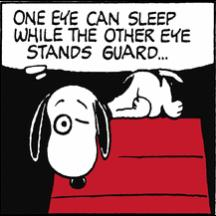snoopy: (28, 69, 185, 191)
